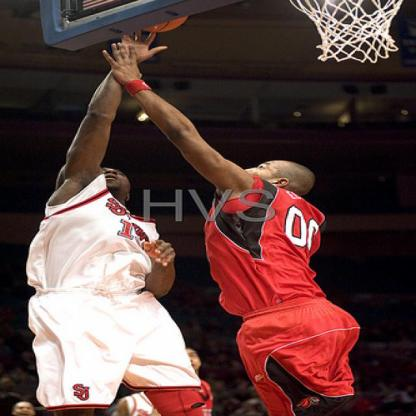basketball: (138, 14, 188, 32)
